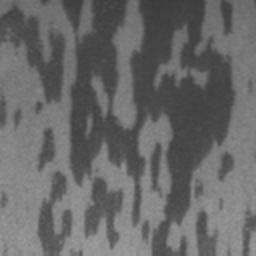Red iron sheet: (0, 0, 236, 256), (37, 128, 56, 172), (0, 93, 22, 129), (242, 209, 256, 256), (219, 0, 234, 35), (218, 151, 234, 182), (40, 0, 51, 6)
